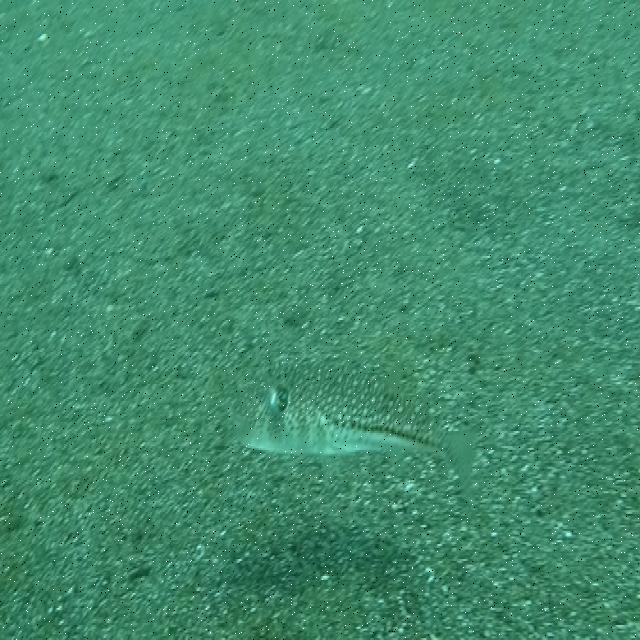Balik: (233, 364, 472, 483)
